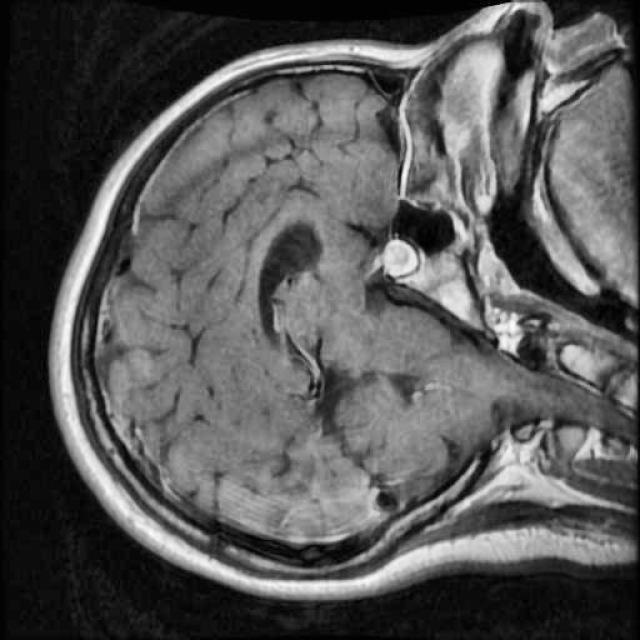Tumor: (366, 226, 436, 292)
